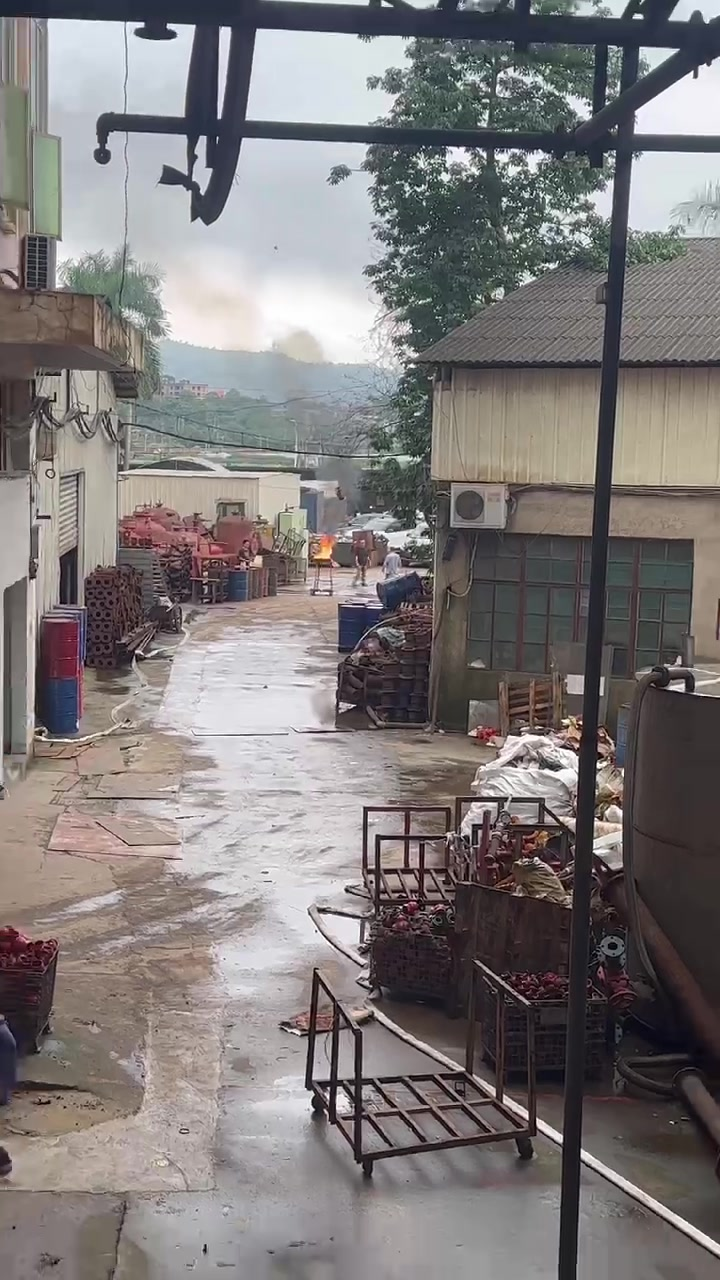fire: (313, 537, 334, 557)
